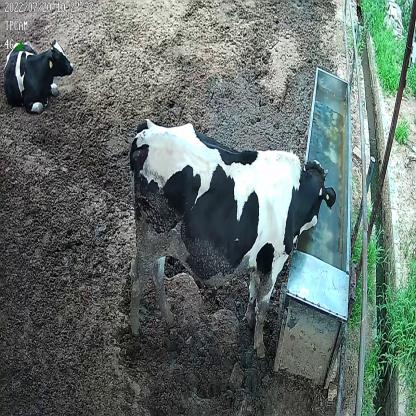cow: (128, 115, 337, 358), (4, 39, 76, 114)
